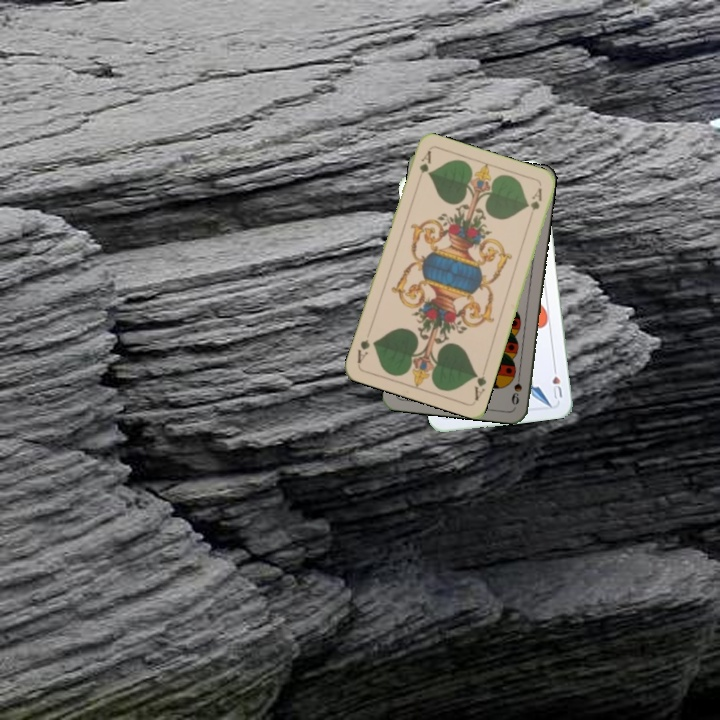GA: (413, 147, 434, 187), (470, 369, 489, 403)
HU: (548, 362, 565, 401)
S9: (507, 367, 524, 407)
